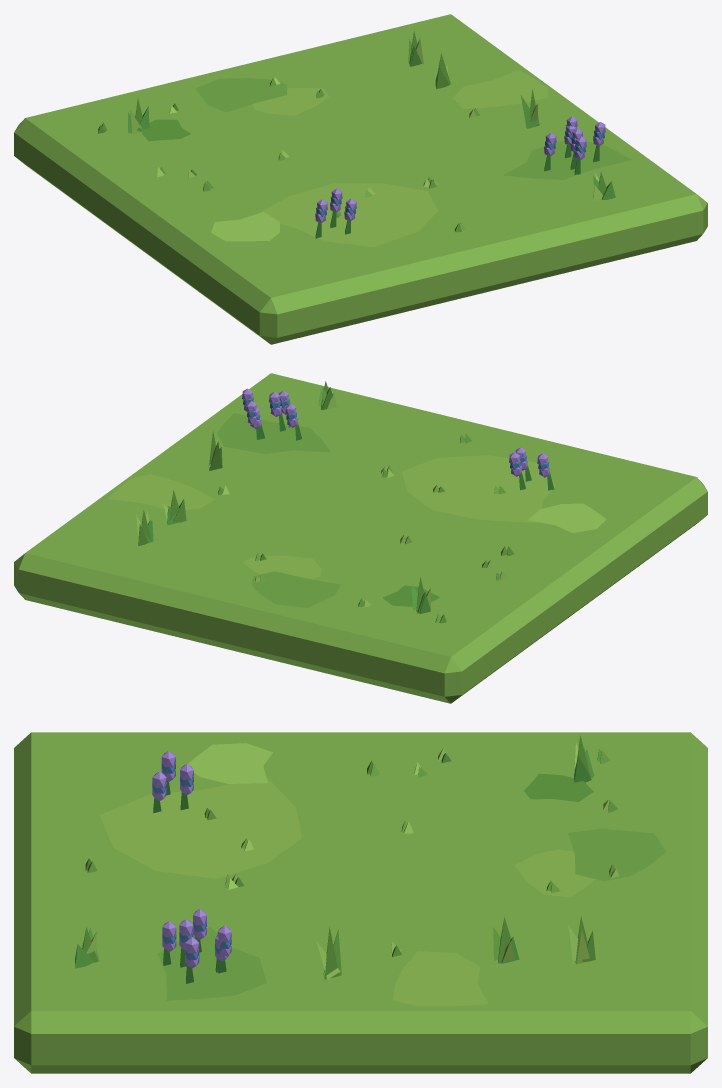
Rendered from tile_grass_h.fbx.
3 renders of one model, top to bottom at view 1: azimuth 30°, elevation 25°; view 2: azimuth 150°, elevation 25°; view 3: azimuth 270°, elevation 25°, orthographic. The views are drawn at different scales.
Visible parts, largest first — view 1: tile_grass_h, Details; view 2: tile_grass_h, Details; view 3: tile_grass_h, Details.
Boxes of the visible parts, x1=… form: tile_grass_h: x1=14, y1=14, x2=707, y2=344; Details: x1=98, y1=30, x2=615, y2=238; tile_grass_h: x1=14, y1=373, x2=707, y2=703; Details: x1=136, y1=381, x2=554, y2=623; tile_grass_h: x1=14, y1=732, x2=707, y2=1073; Details: x1=75, y1=735, x2=619, y2=983.
Size of the model in its own units: 1 by 0.1824 by 1.
